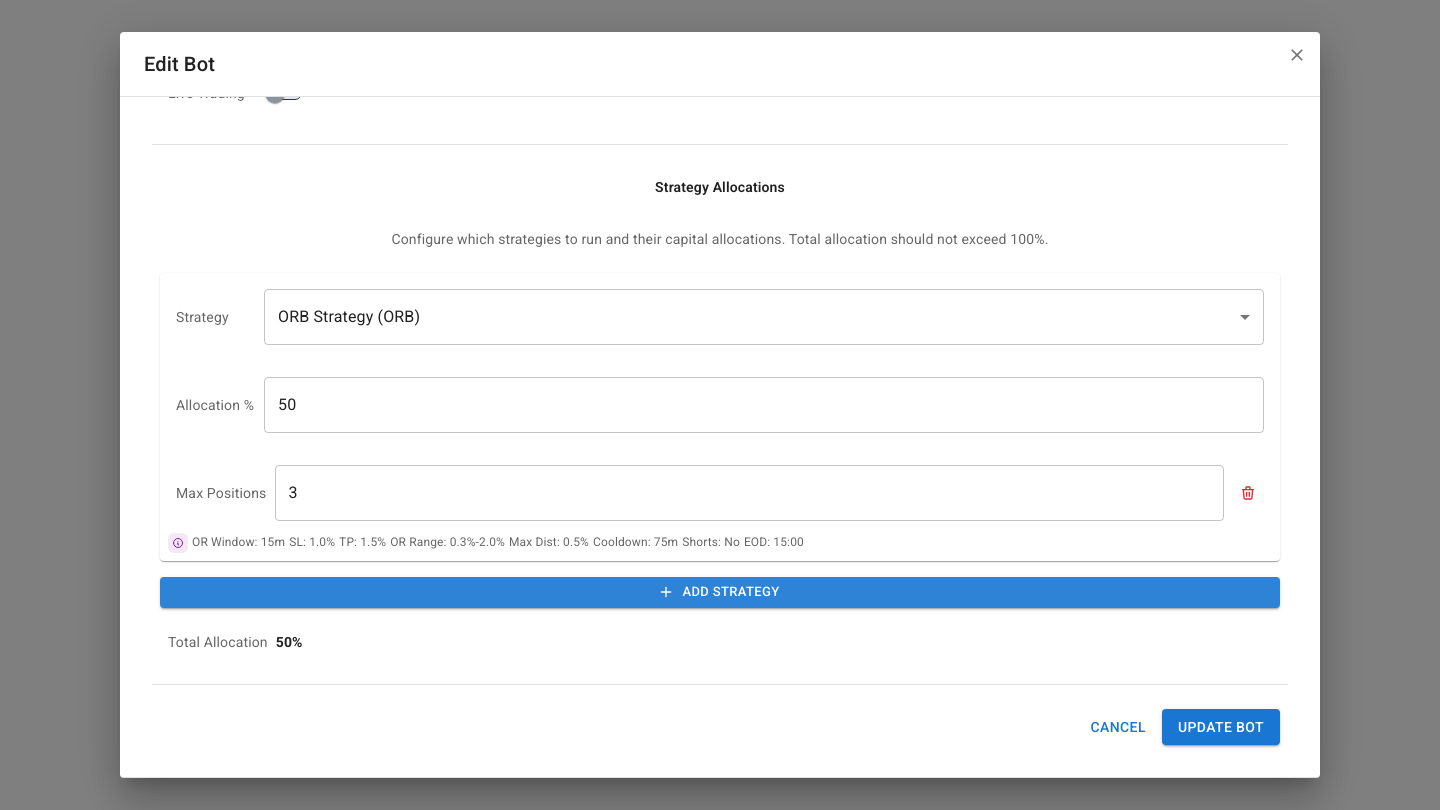
Scenario: BotConfigModal › remove strategy button removes a row
(page scrolled)
Step 1. Click the button with test id "add-strategy-btn" → (720, 592), box [160, 577, 1280, 608]
(page scrolled)
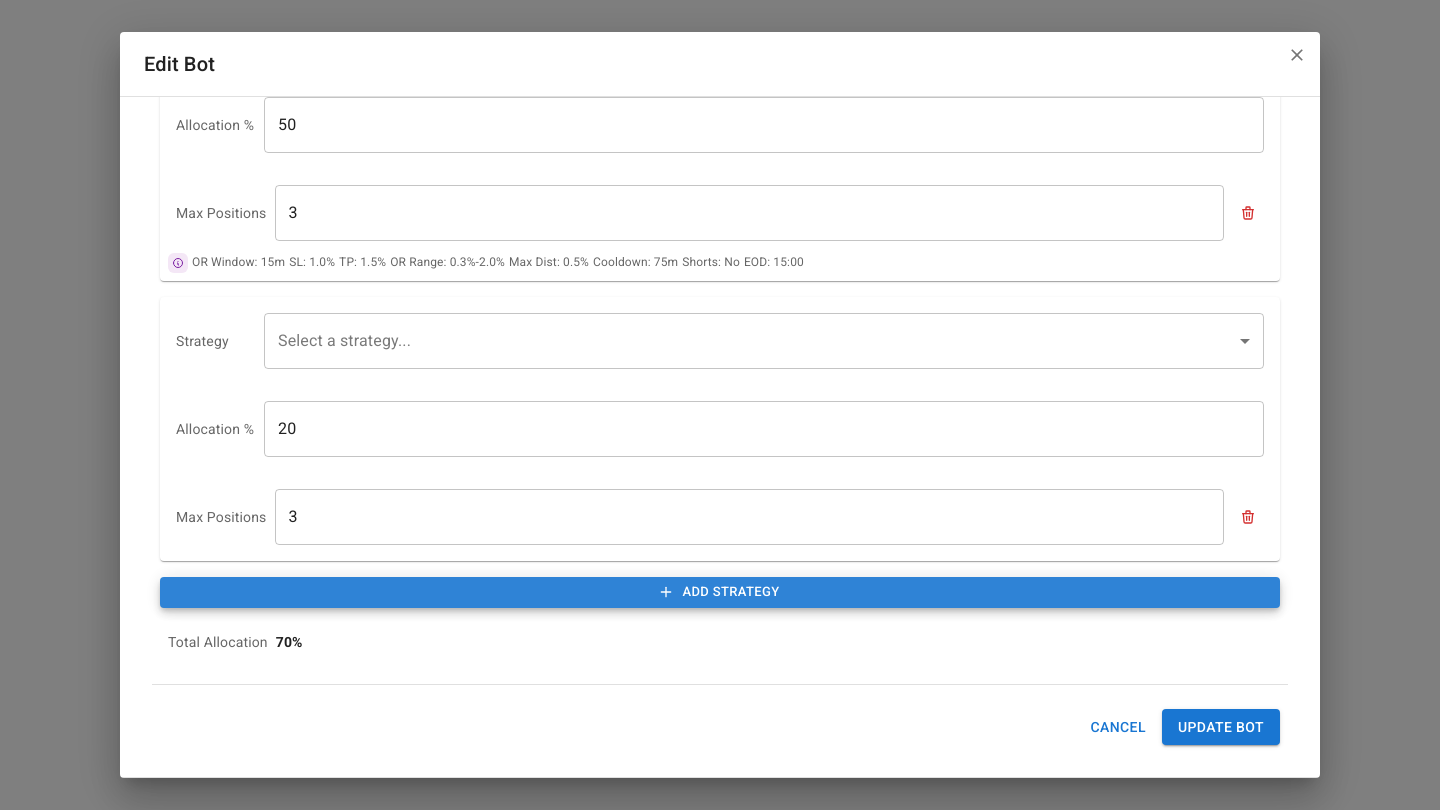
Check: the number of elements with test id "strategy-allocation-row" is 2, box [160, 96, 1280, 281]; [160, 297, 1280, 561]
Step 2. Click the button with test id "remove-strategy-btn-new-100" → (1248, 517), box [1232, 501, 1264, 533]
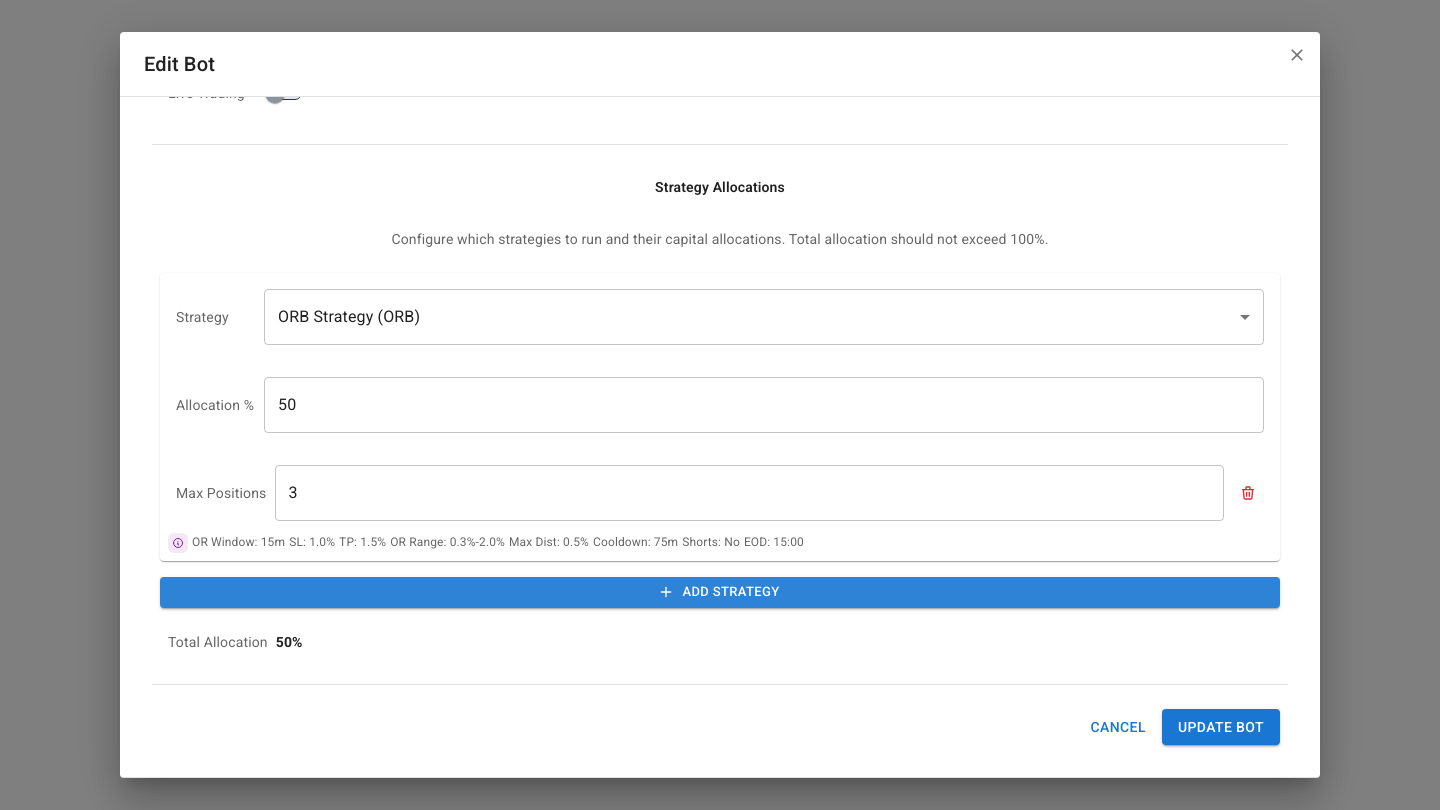
Check: the number of elements with test id "strategy-allocation-row" is 1, box [160, 273, 1280, 561]
